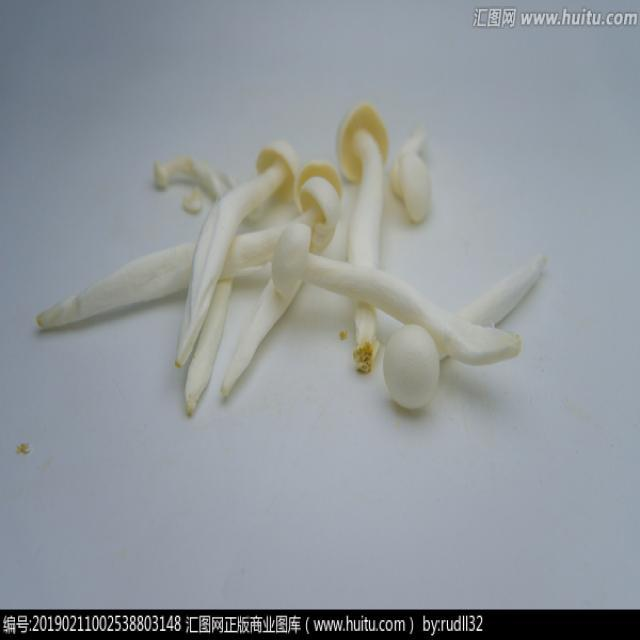Flammulina velutiper: (36, 109, 544, 415)
